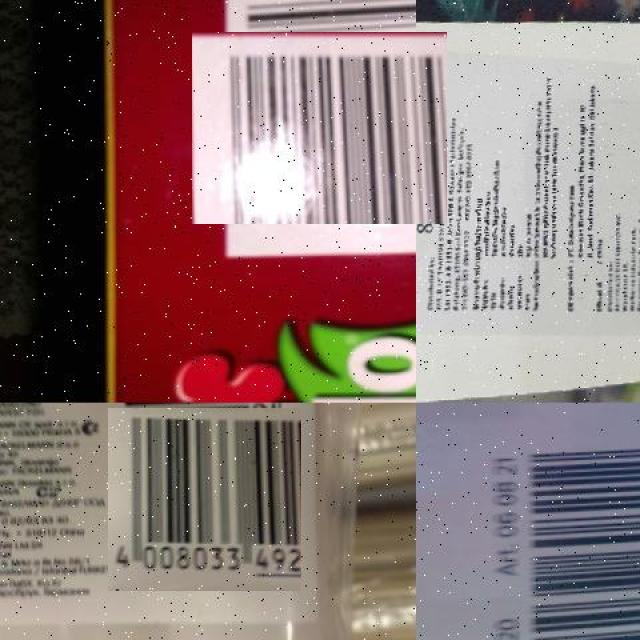Barcode: (207, 16, 432, 239), (110, 405, 298, 594), (519, 428, 640, 640), (416, 63, 437, 317)
